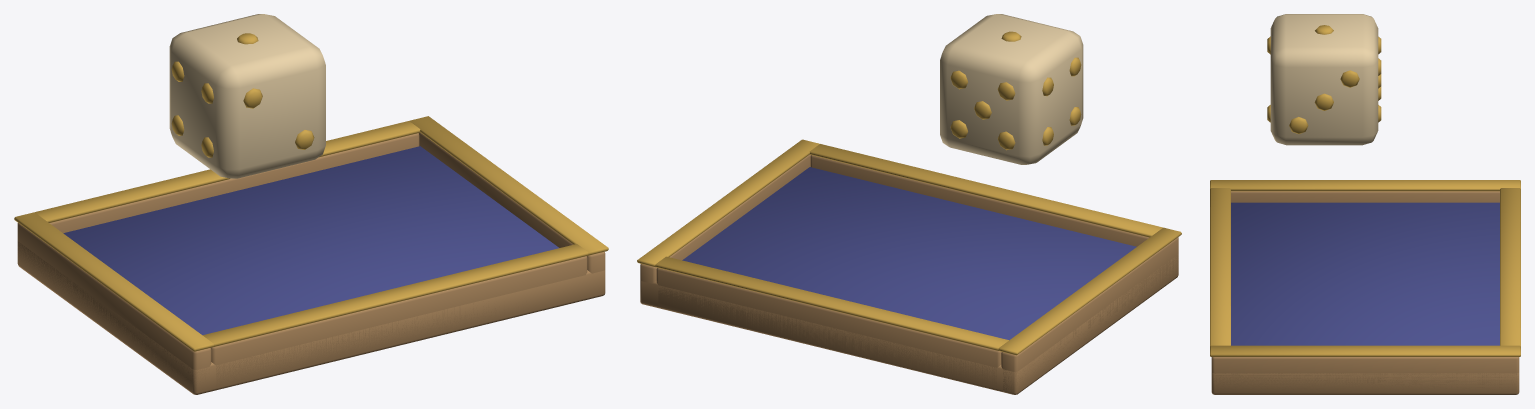
File: die.glb
The picture shows the model from 3 angles, left to right: view 1: azimuth 30°, elevation 25°; view 2: azimuth 150°, elevation 25°; view 3: azimuth 270°, elevation 25°; orthographic projection. The views are drawn at different scales.
Parts seen in each view (by area): view 1: tray, die; view 2: tray, die; view 3: tray, die.
Boxes of the visible parts, x1,y1,x2,y2 form: tray: (14, 116, 608, 394); die: (169, 14, 325, 178); tray: (637, 139, 1181, 394); die: (940, 14, 1083, 164); tray: (1210, 180, 1520, 394); die: (1267, 14, 1381, 145).
Bounding box in the file's own units: 1.61 × 1.05 × 1.21.
